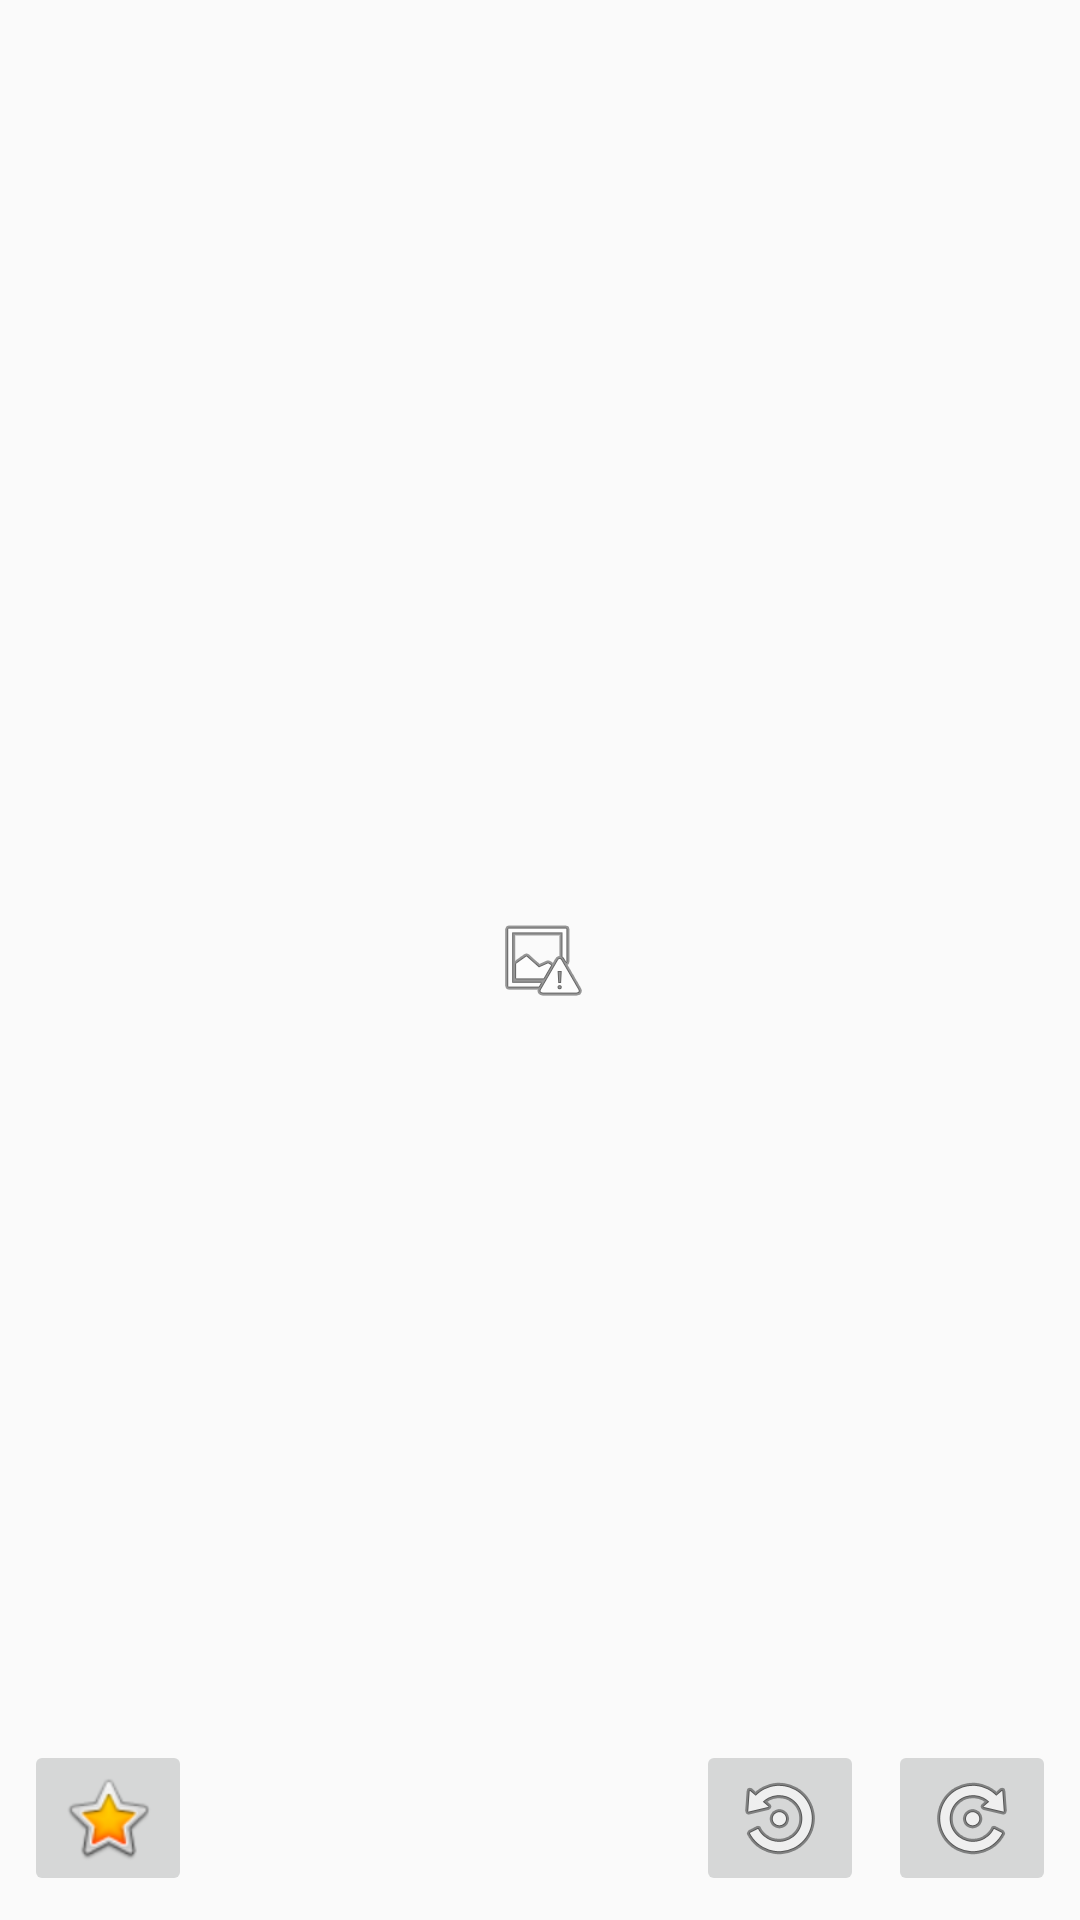

Icons on this 1080 × 1920 Android screen, each with its box as (x1, y1, x2, y2):
star on: (36, 1758, 180, 1878)
